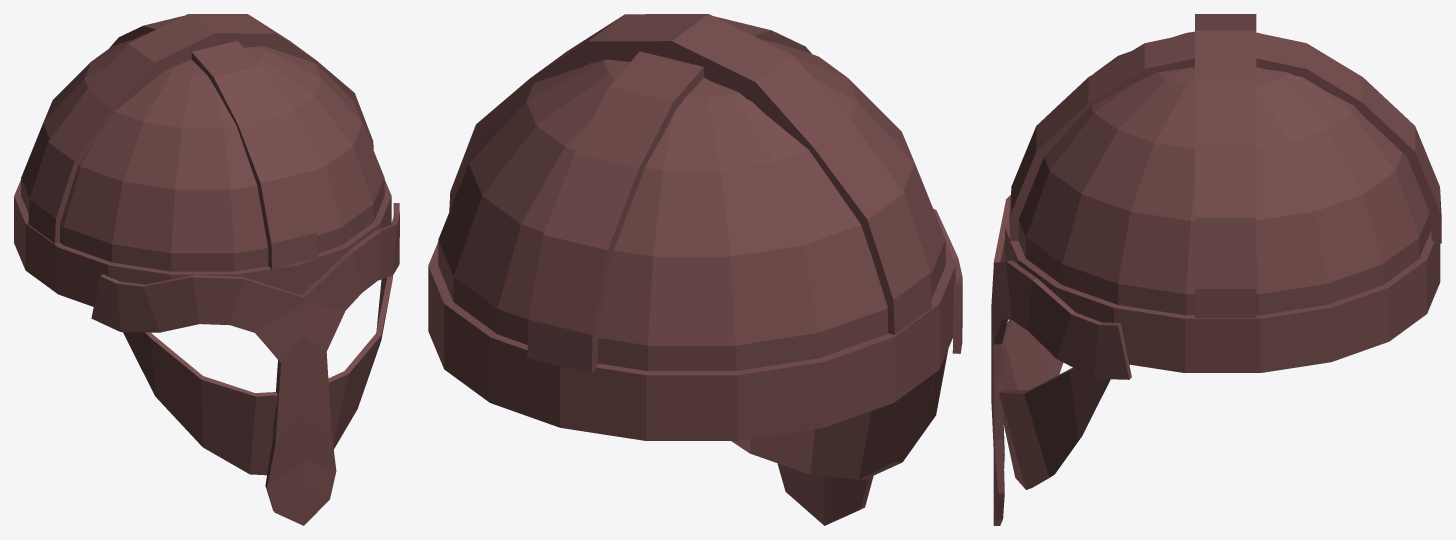
Rendered from SM_helmet_norse_basic.fbx.
The picture shows the model from 3 angles, left to right: view 1: azimuth 30°, elevation 25°; view 2: azimuth 150°, elevation 25°; view 3: azimuth 270°, elevation 25°; orthographic projection. The views are drawn at different scales.
Parts seen in each view (by area): view 1: Object003; view 2: Object003; view 3: Object003.
Boxes of the visible parts, bbox=[...] form: Object003: bbox=[14, 14, 399, 525]; Object003: bbox=[428, 14, 962, 525]; Object003: bbox=[991, 14, 1441, 525].
Bounding box in the file's own units: 9.32 × 11.86 × 9.79.
